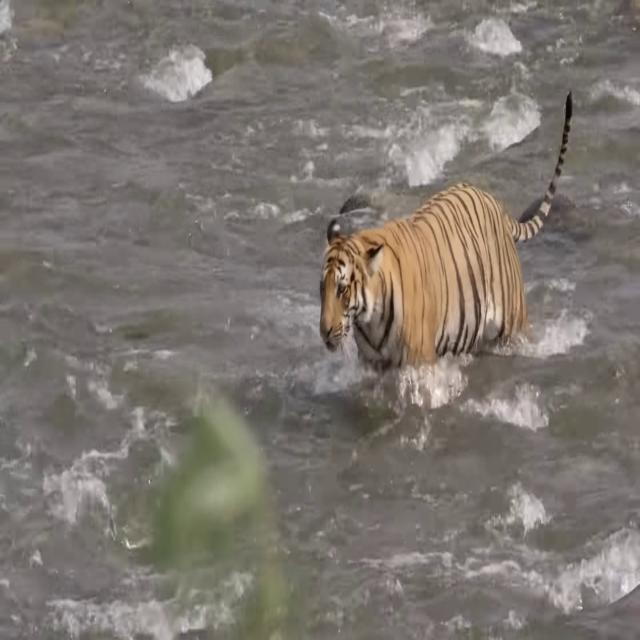tiger: (319, 90, 573, 370)
